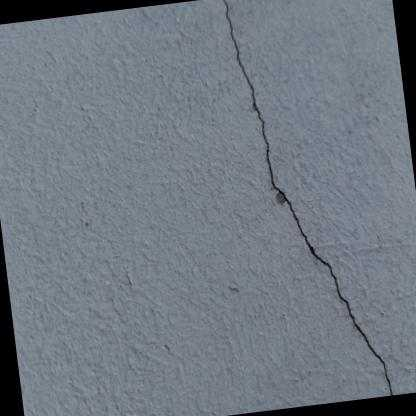crack: (221, 0, 394, 395)
